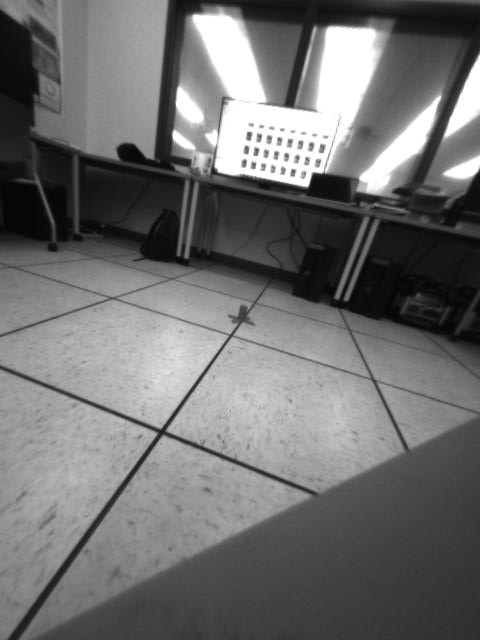X: (227, 303, 256, 327)
